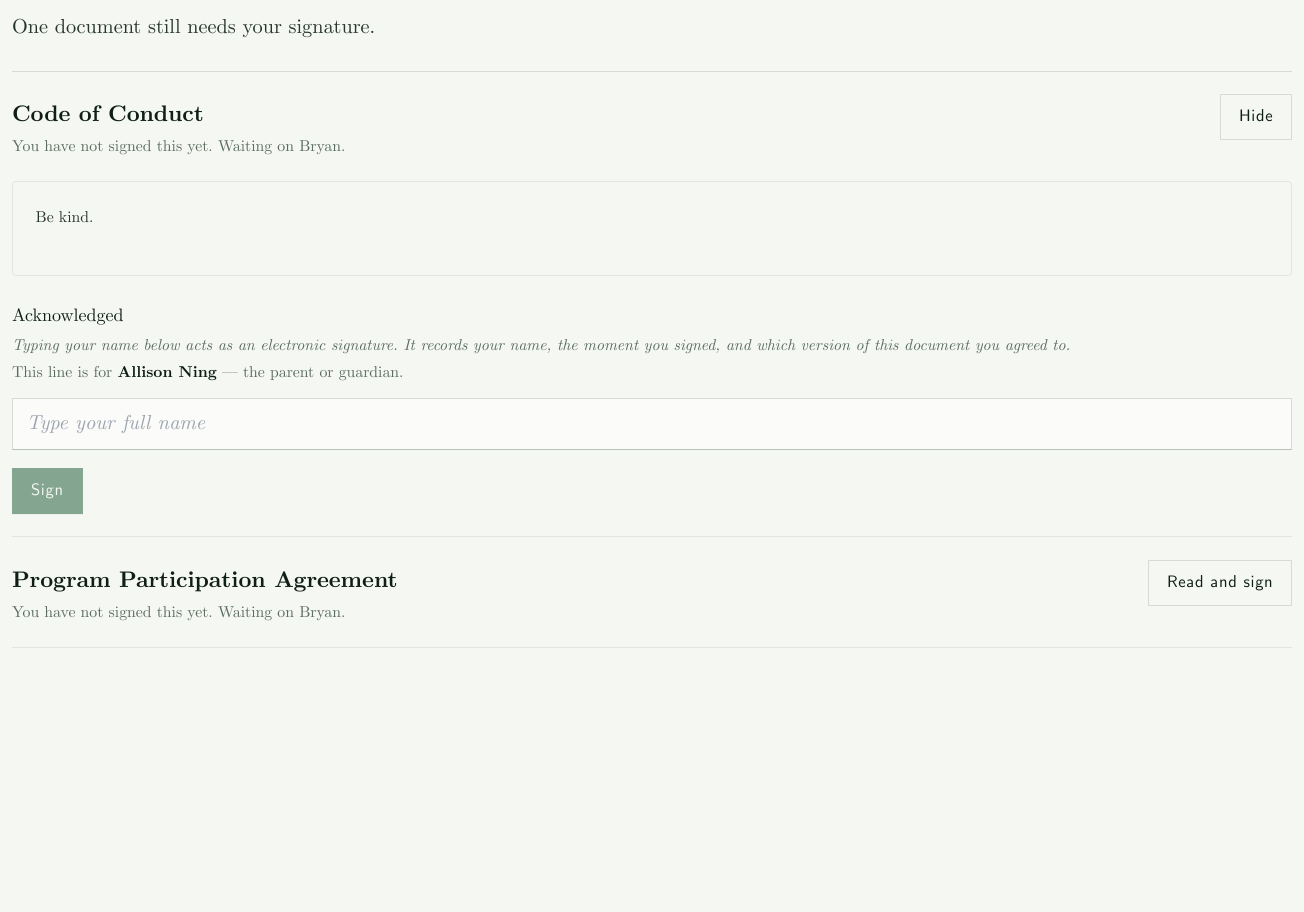
signing as the wrong person › blocks the student’s name on the guardian’s line too
This screenshot has width=1304, height=912.
In the field with placeholder "Type your full name": (652, 424) [12,398,1292,450], type "Bryan Ning"
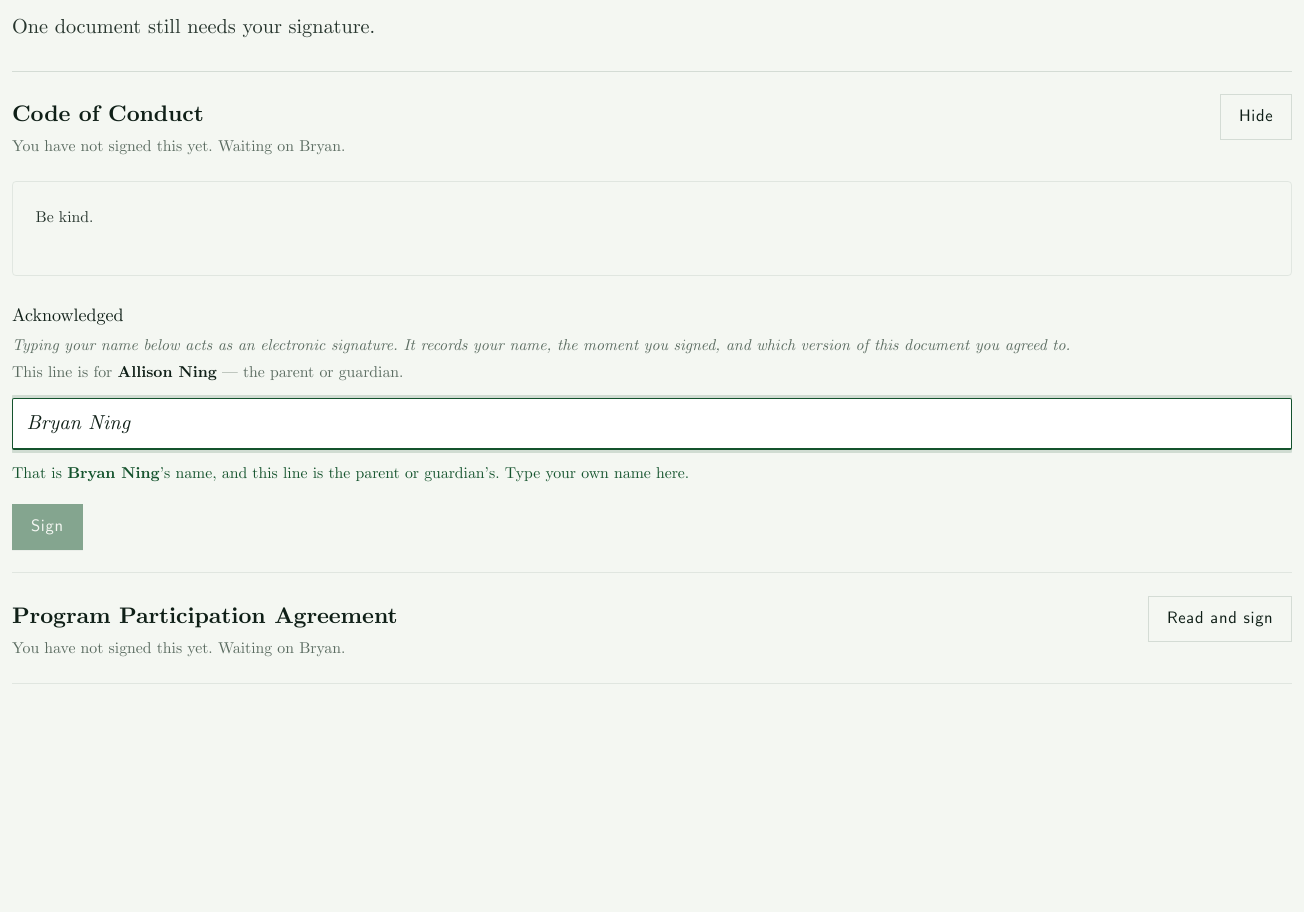
Check: the button "Sign" is disabled, box [12,504,83,550]
Check: the text "this line is the parent or guardian’s" is shown, box [160,464,689,484]
